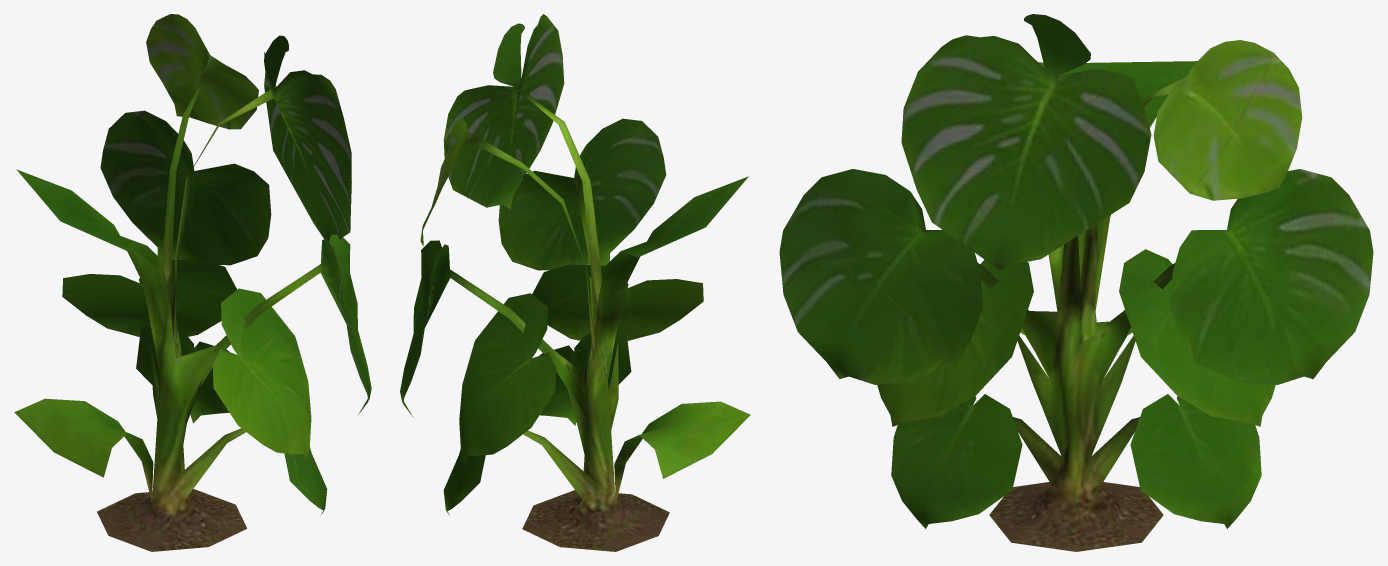
File: monsteraplant.lite.glb
The picture shows the model from 3 angles, left to right: view 1: azimuth 30°, elevation 25°; view 2: azimuth 150°, elevation 25°; view 3: azimuth 270°, elevation 25°; orthographic projection. The views are drawn at different scales.
Parts seen in each view (by area): view 1: model; view 2: model; view 3: model.
Part boxes in pixels (<box>): model: <box>14,14,371,551</box>; model: <box>400,14,750,551</box>; model: <box>779,14,1373,551</box>.
Size of the model in its own units: 0.5776 by 0.9995 by 0.9653.
2 materials, 2 textured.
